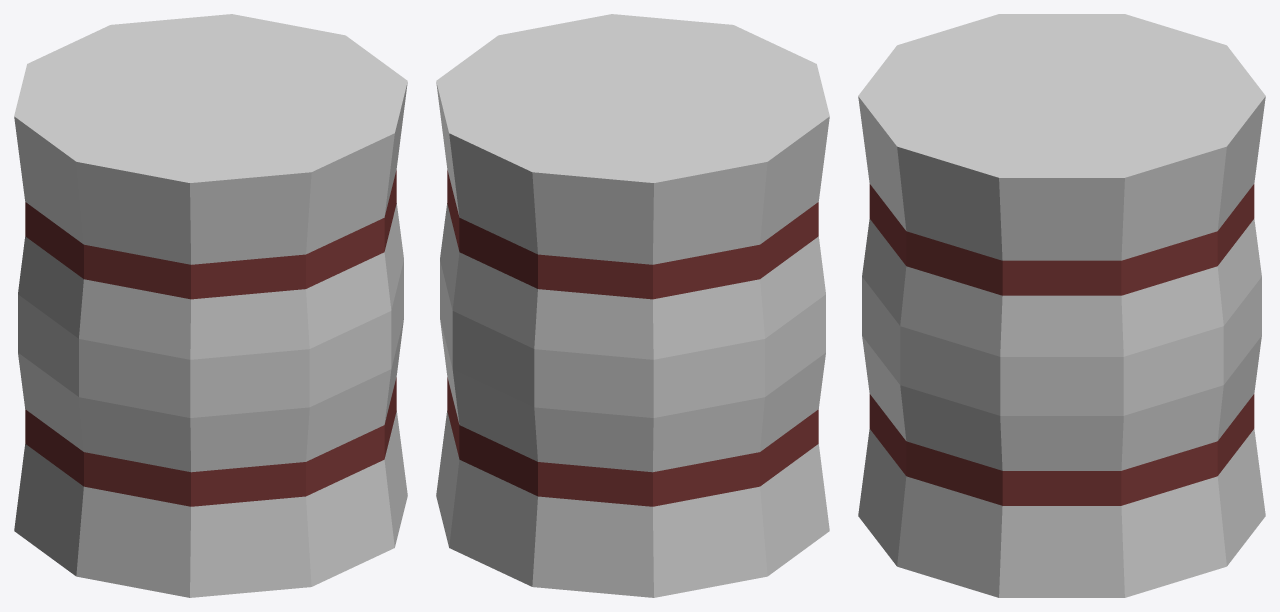
File: Bandages.glb
3 renders of one model, left to right at view 1: azimuth 30°, elevation 25°; view 2: azimuth 150°, elevation 25°; view 3: azimuth 270°, elevation 25°, orthographic.
Parts seen in each view (by area): view 1: Bandages; view 2: Bandages; view 3: Bandages.
Boxes of the visible parts, left/top/right/bottom form: Bandages: left=14, top=14, right=407, bottom=597; Bandages: left=436, top=14, right=829, bottom=597; Bandages: left=858, top=14, right=1265, bottom=597.
Bounding box in the file's own units: 0.0756 × 0.0904 × 0.0795.
